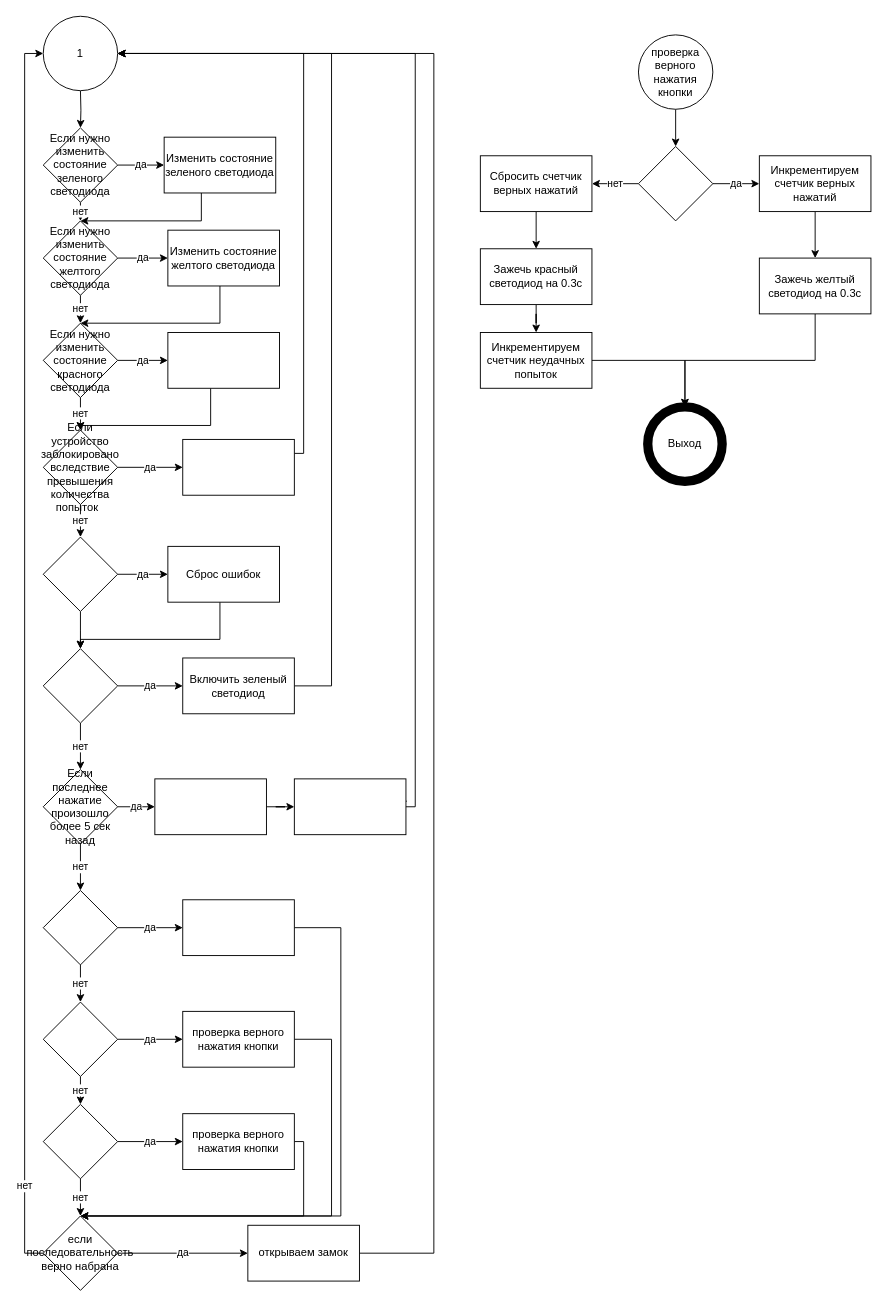
Some shapes in this 887 by 1307 pixel diagram are drawn without their labels. The box of each missing label's shape, as (x1, y1, x2, y2) in pixels:
Выставляем время начала нажатия: (182, 899, 294, 956)
Если длина нажатия соответствует нужной: (638, 146, 713, 221)
Если долгое нажатие: (42, 1001, 118, 1076)
Если замок открыт: (42, 648, 118, 723)
если короткое нажатие: (42, 1103, 118, 1179)
Если нужно сбросить количество ошибок: (42, 536, 118, 611)
Если произошло начало нажатия: (42, 890, 118, 965)
Зажечь красный светодиод на 0.8с: (293, 778, 406, 835)
Изменить состояние красного светодиода: (167, 332, 279, 388)
Мигать красным светодиодом: (182, 438, 294, 495)
Сбросить итератор: (154, 778, 266, 835)
